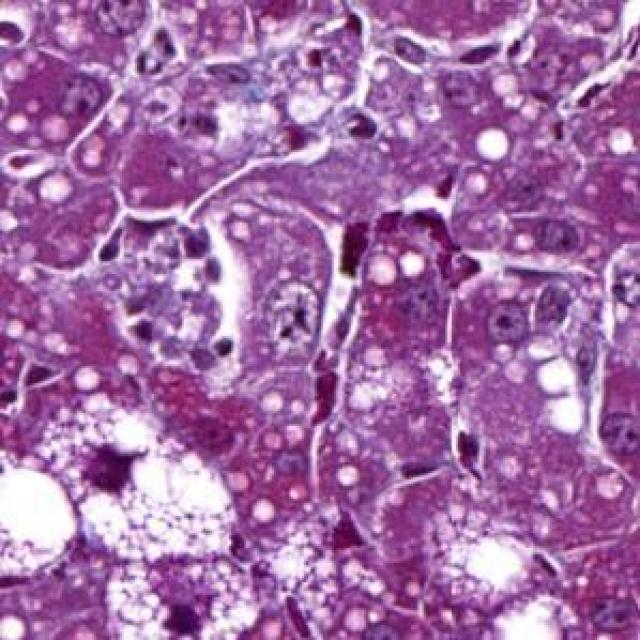ballooning: (32, 388, 242, 570), (413, 503, 544, 616), (98, 552, 266, 640)
